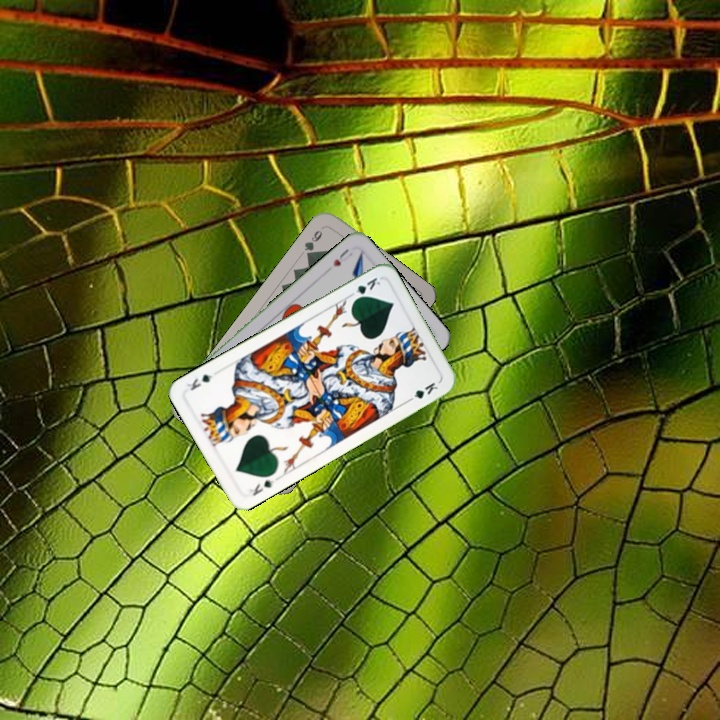G9: (300, 222, 327, 260)
GK: (345, 273, 384, 304), (245, 476, 277, 499)
HU: (329, 245, 355, 269)
